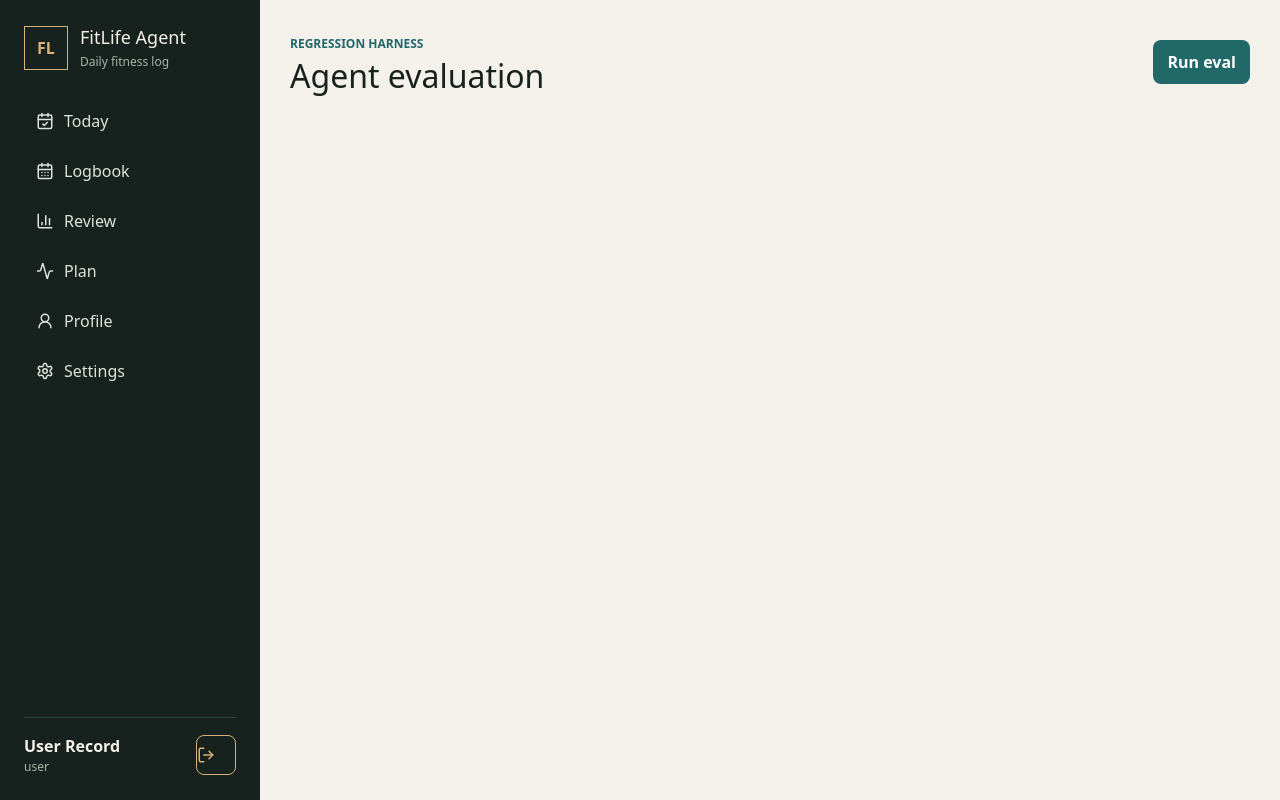
Scenario: renders actual evaluation results in en-US
The width and height of the screenshot is (1280, 800).
Click the button "Run eval" at (1202, 62), box [1154,40,1250,84]
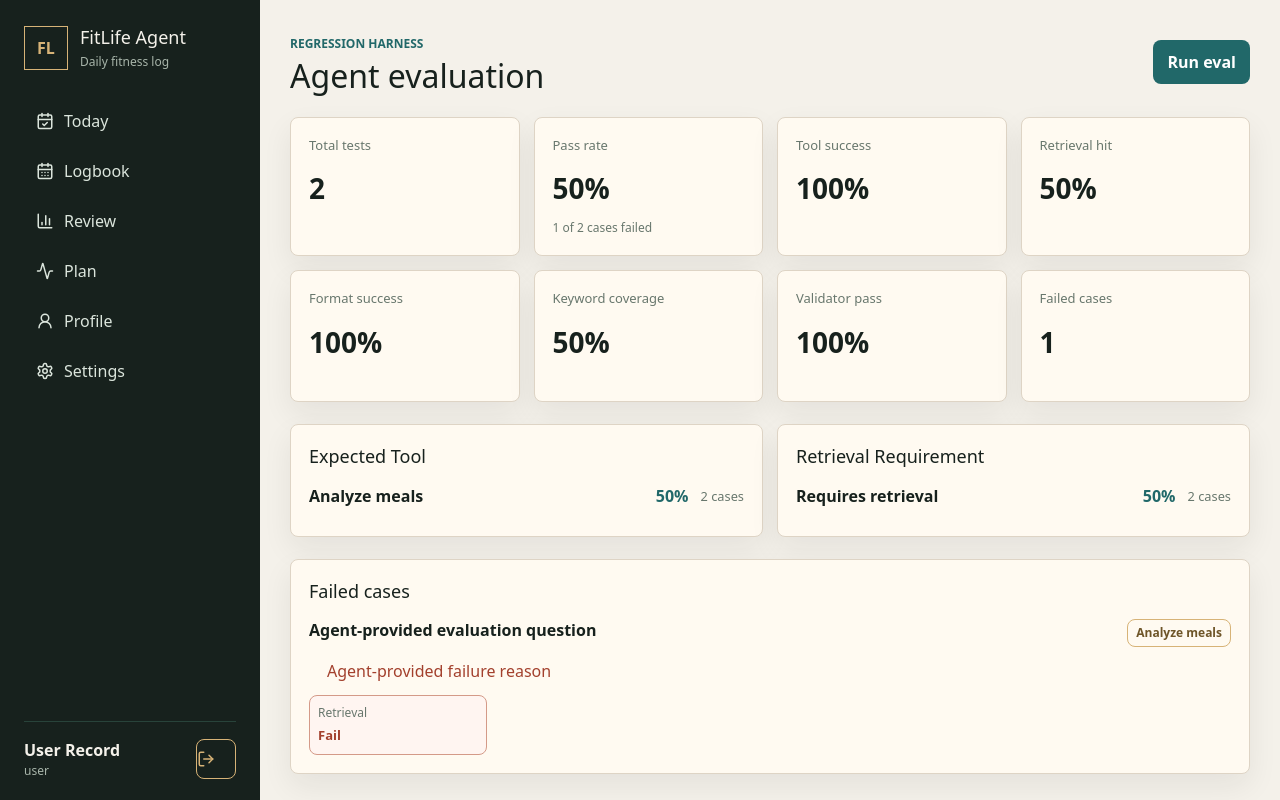
Expected: the text "1 of 2 cases failed" is shown, [552,219,652,236]
Expected: the heading "Expected tool" is shown, [309,444,426,468]
Expected: the text "Analyze meals" below "Expected tool" is shown, [309,485,423,507]
